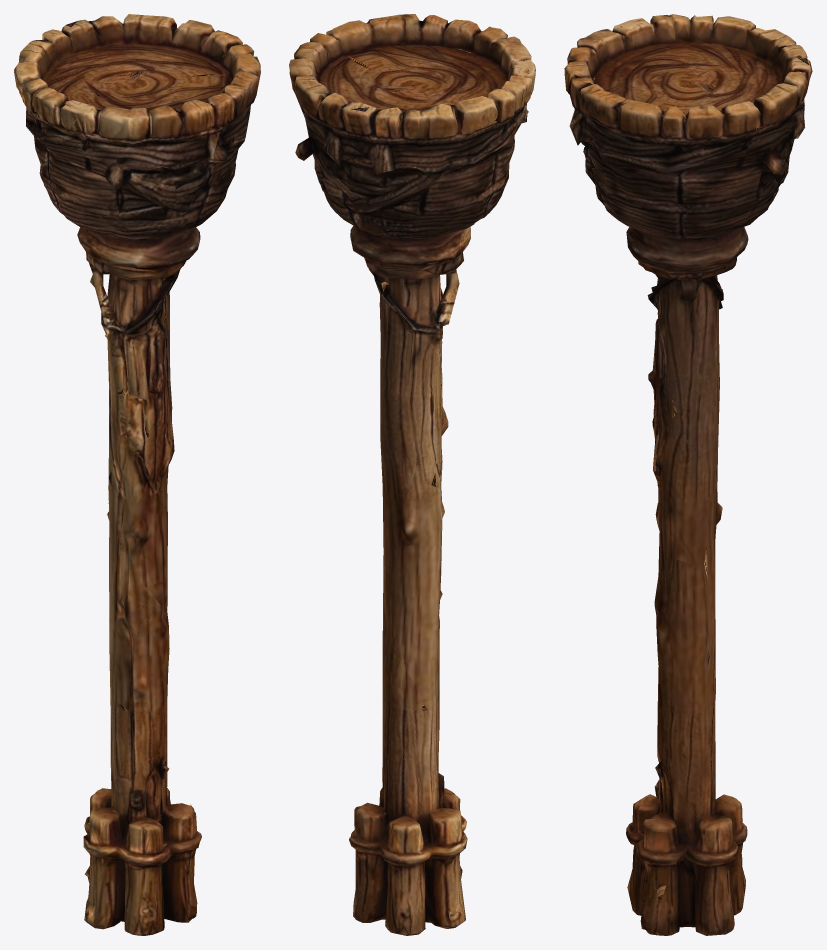
File: tiki_torch.glb
The picture shows the model from 3 angles, left to right: view 1: azimuth 30°, elevation 25°; view 2: azimuth 150°, elevation 25°; view 3: azimuth 270°, elevation 25°; orthographic projection.
Parts seen in each view (by area): view 1: prop; view 2: prop; view 3: prop.
Part boxes in pixels (left/top/right/bottom): prop: left=14, top=14, right=260, bottom=935; prop: left=289, top=14, right=535, bottom=935; prop: left=564, top=14, right=812, bottom=935.
Size of the model in its own units: 0.2626 by 1 by 0.2636.
1 material, 1 textured.
